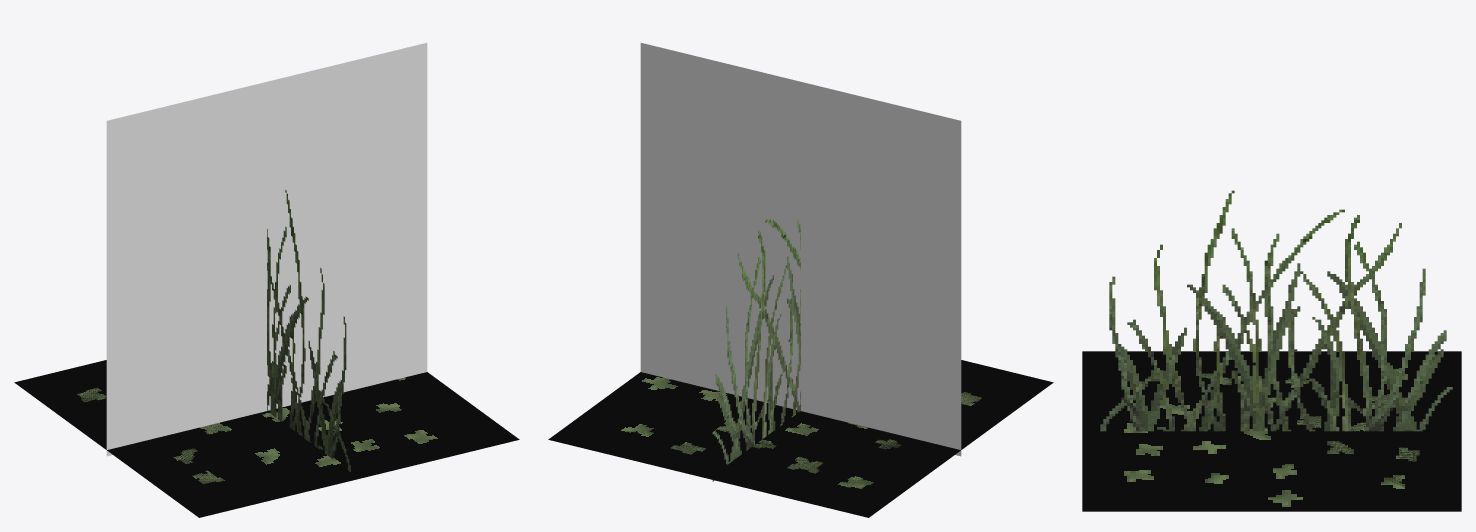
The model's file is plants01.glb.
3 renders of one model, left to right at view 1: azimuth 30°, elevation 25°; view 2: azimuth 150°, elevation 25°; view 3: azimuth 270°, elevation 25°, orthographic. The views are drawn at different scales.
Visible parts, largest first — view 1: mesh (×3); view 2: mesh (×3); view 3: mesh (×2).
Part boxes in pixels (box(x1,y1,x2,y2)): mesh (×3): box(14, 43, 519, 517); mesh (×3): box(548, 43, 1053, 517); mesh (×2): box(1082, 190, 1461, 511).
Bounding box in the file's own units: 1 × 1 × 1.
3 materials, 2 textured.
